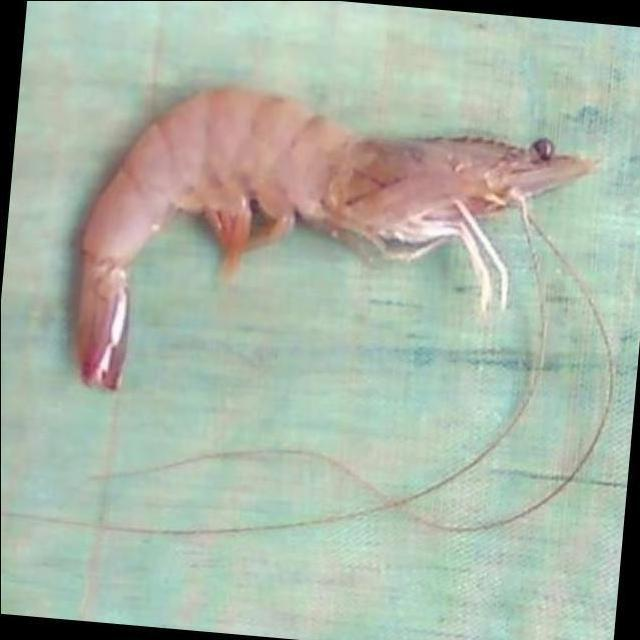shrimp: (75, 86, 596, 390)
